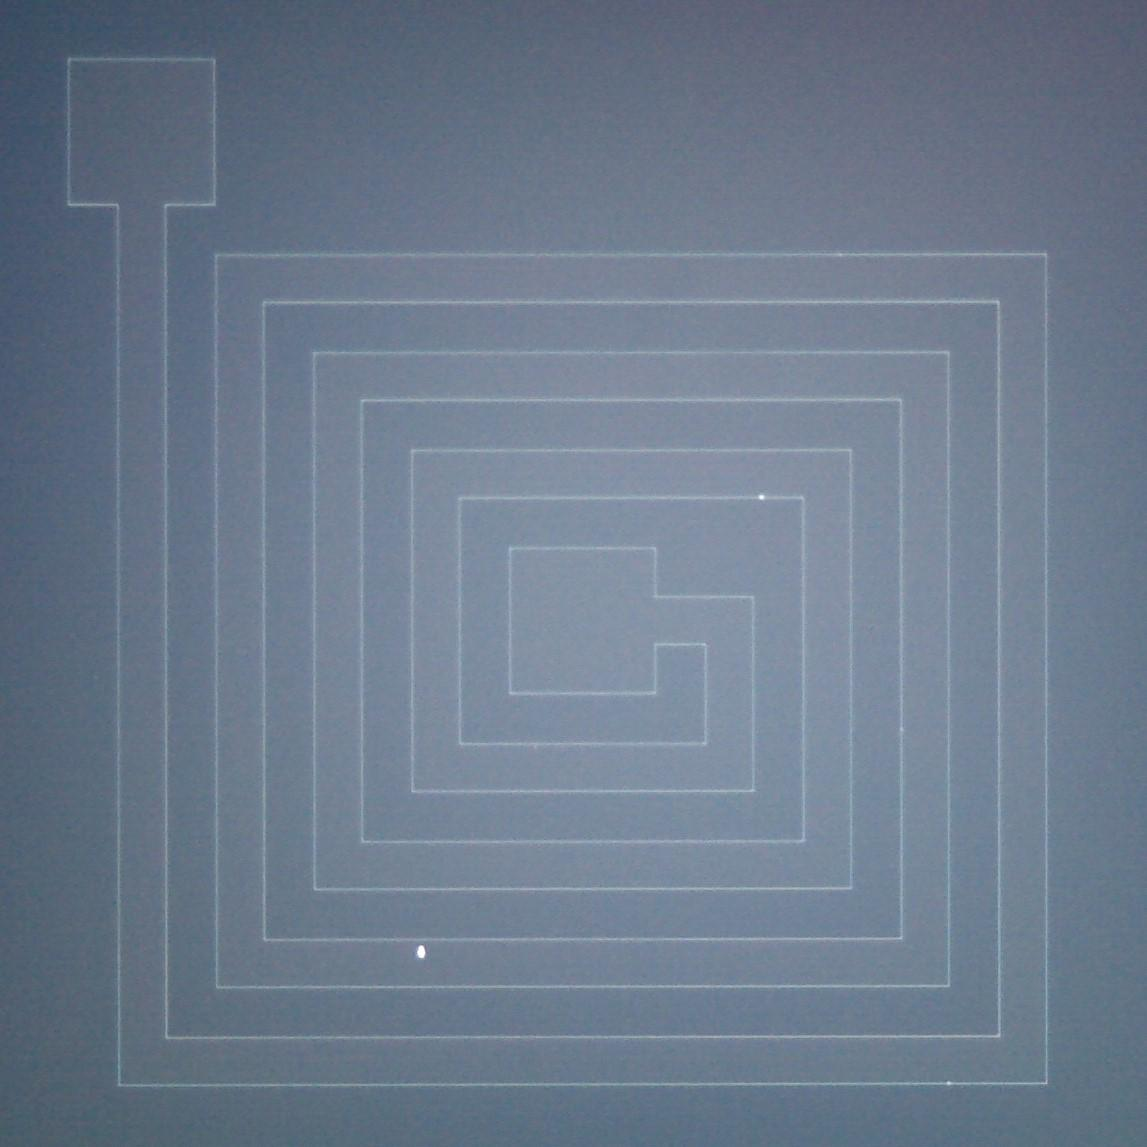B_point: (406, 937, 435, 967)
s_point: (751, 488, 772, 505), (940, 1075, 957, 1091)
